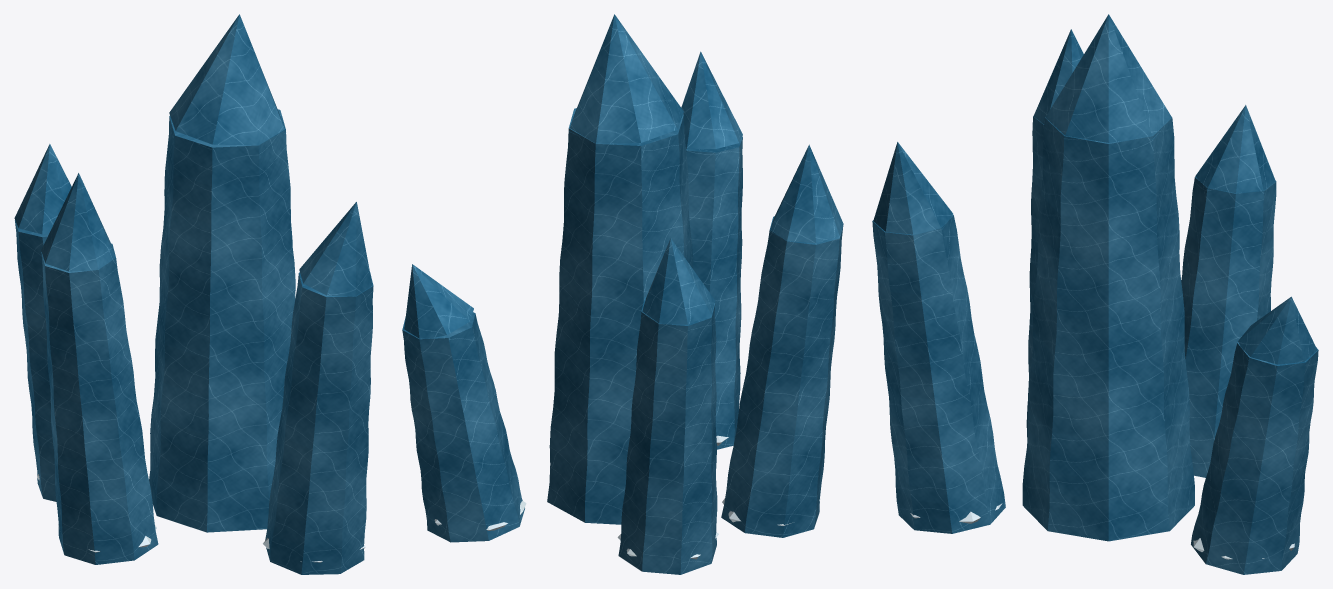
Rendered from BossRoom_SmallCrystal.fbx.
The picture shows the model from 3 angles, left to right: view 1: azimuth 30°, elevation 25°; view 2: azimuth 150°, elevation 25°; view 3: azimuth 270°, elevation 25°; orthographic projection. The views are drawn at different scales.
Parts seen in each view (by area): view 1: WO_BossRoom_SmallCrystal_LOD0; view 2: WO_BossRoom_SmallCrystal_LOD0; view 3: WO_BossRoom_SmallCrystal_LOD0.
Part boxes in pixels (x1,y1,x2,y2): WO_BossRoom_SmallCrystal_LOD0: [14, 14, 373, 574]; WO_BossRoom_SmallCrystal_LOD0: [402, 14, 843, 574]; WO_BossRoom_SmallCrystal_LOD0: [872, 14, 1318, 574].
Size of what is drawn, in the model's own units: 4.39 by 6 by 4.82.
